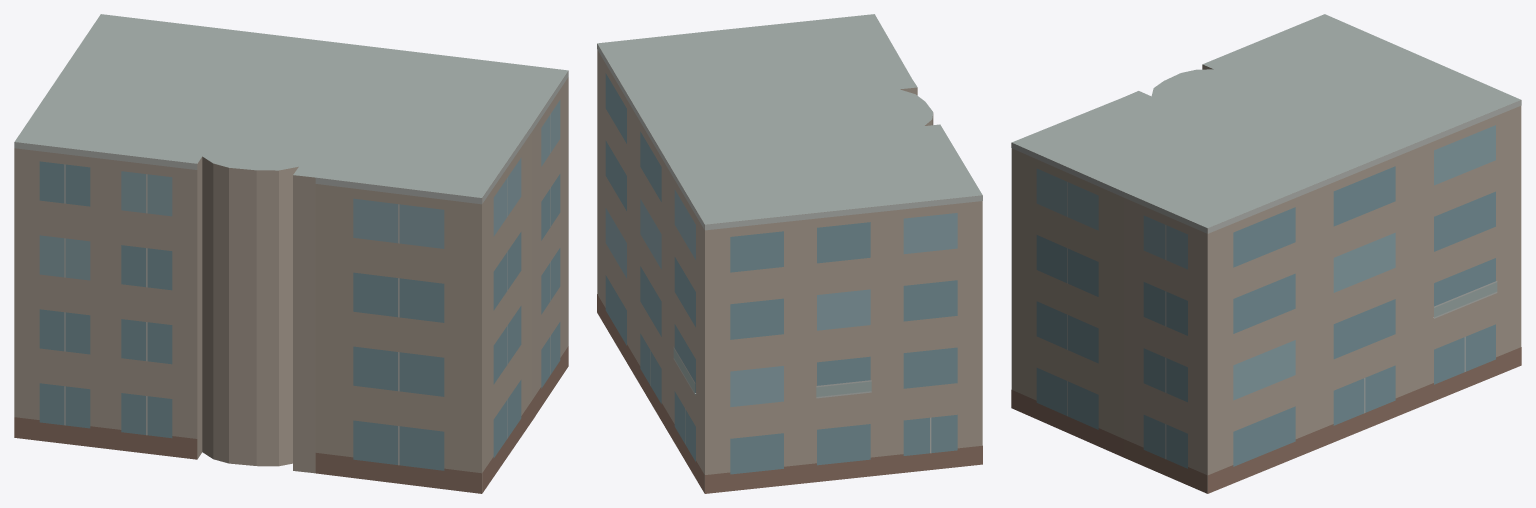
File: survey-upis-32816160.glb
3 renders of one model, left to right at view 1: azimuth 30°, elevation 25°; view 2: azimuth 150°, elevation 25°; view 3: azimuth 270°, elevation 25°, orthographic. The views are drawn at different scales.
Visible parts, largest first — view 1: survey-upis-32816160.tmp; view 2: survey-upis-32816160.tmp; view 3: survey-upis-32816160.tmp.
Part boxes in pixels (x1,y1,x2,y2): survey-upis-32816160.tmp: [14, 14, 568, 493]; survey-upis-32816160.tmp: [597, 14, 982, 493]; survey-upis-32816160.tmp: [1011, 14, 1521, 493].
Size of the model in its own units: 19.9 by 11.5 by 20.02.
